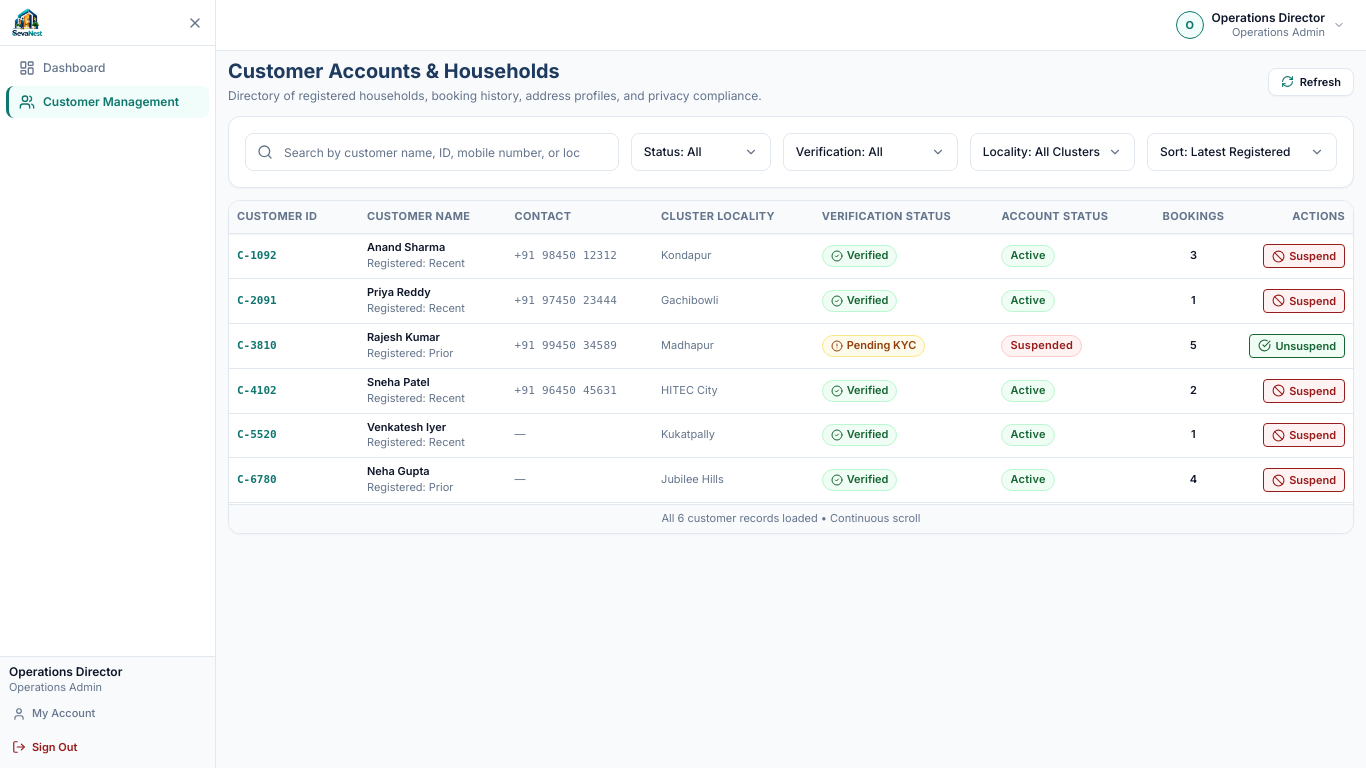
SevaNest Admin Portal — Customer Suspension & Reactivation Action Workflows › 6. Failed suspension displays backend error and preserves actual customer status
Expected: the text "Anand Sharma" is shown, x1=367 y1=240 x2=445 y2=254
Click the button with aria-label "Suspend customer Anand Sharma".
click(1304, 256)  # box x1=1263 y1=244 x2=1345 y2=268
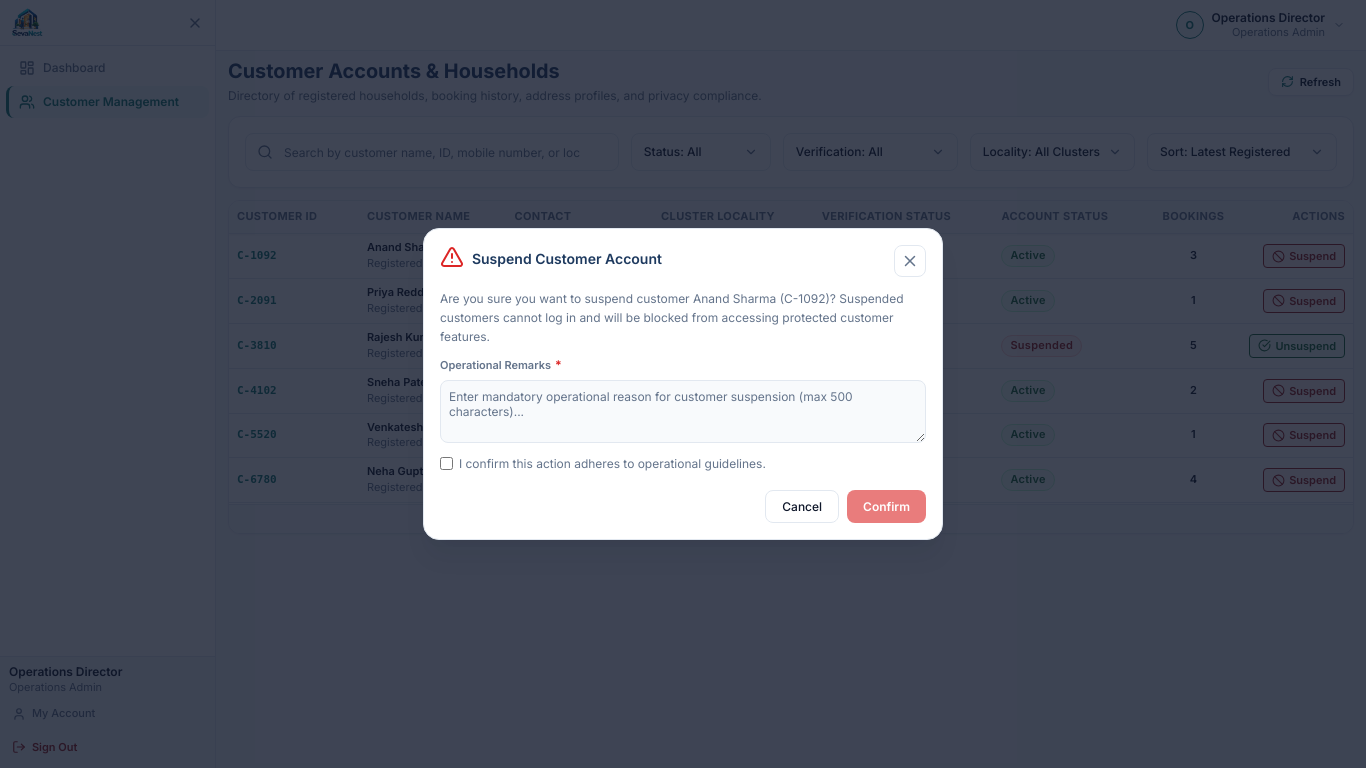
Replace the text in the text box with placeholder "Enter mandatory operational reason" with "Attempting invalid suspension state" at (683, 412), box x1=440 y1=380 x2=926 y2=443
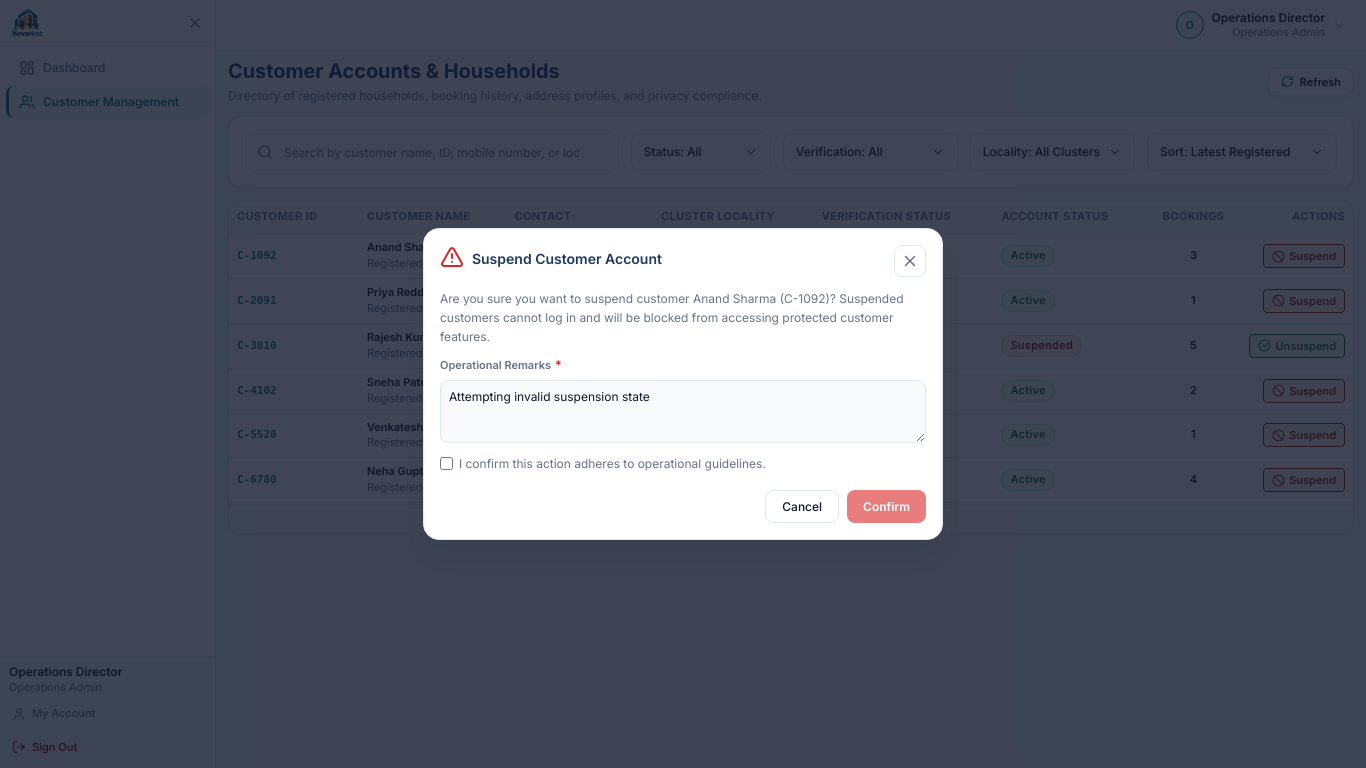
Click the checkbox.
click(446, 464)  # box x1=440 y1=457 x2=453 y2=470
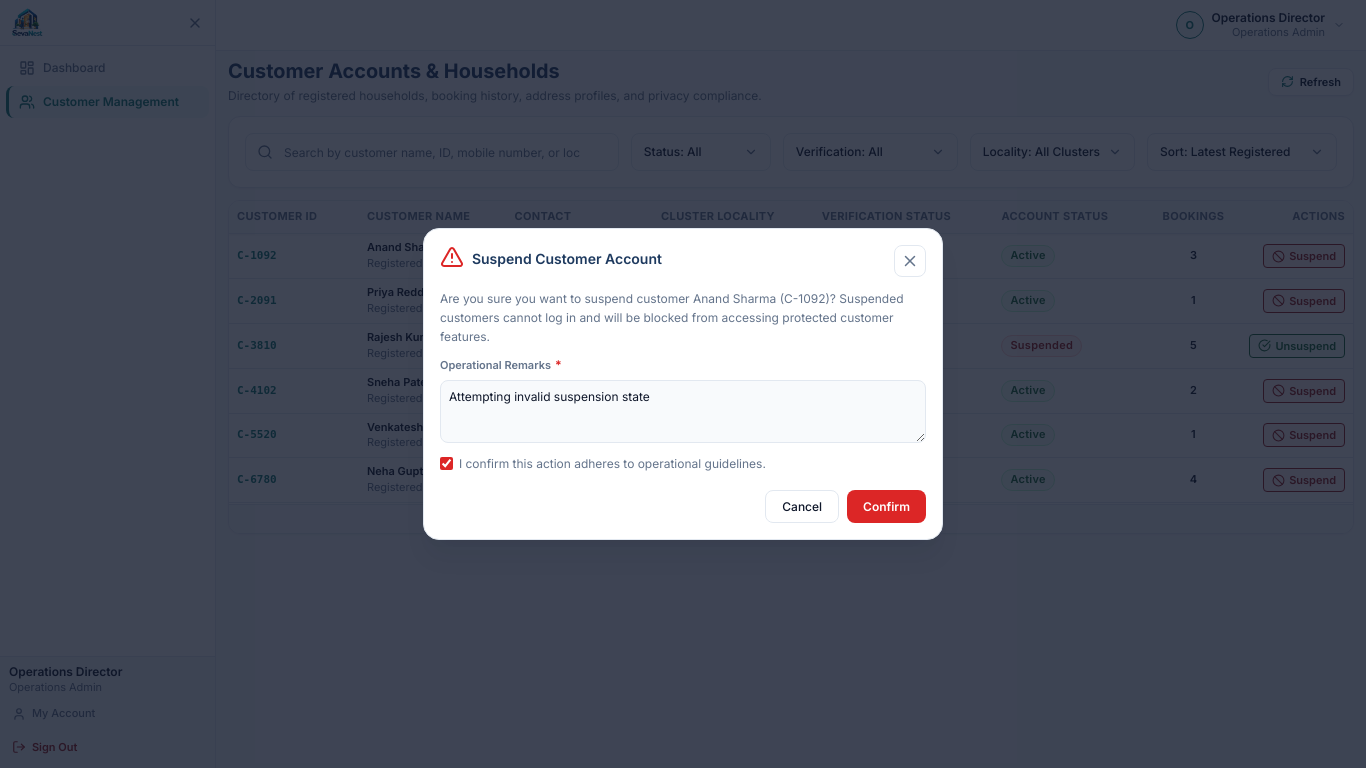
Click the button "Confirm".
click(886, 507)  # box x1=847 y1=490 x2=926 y2=523
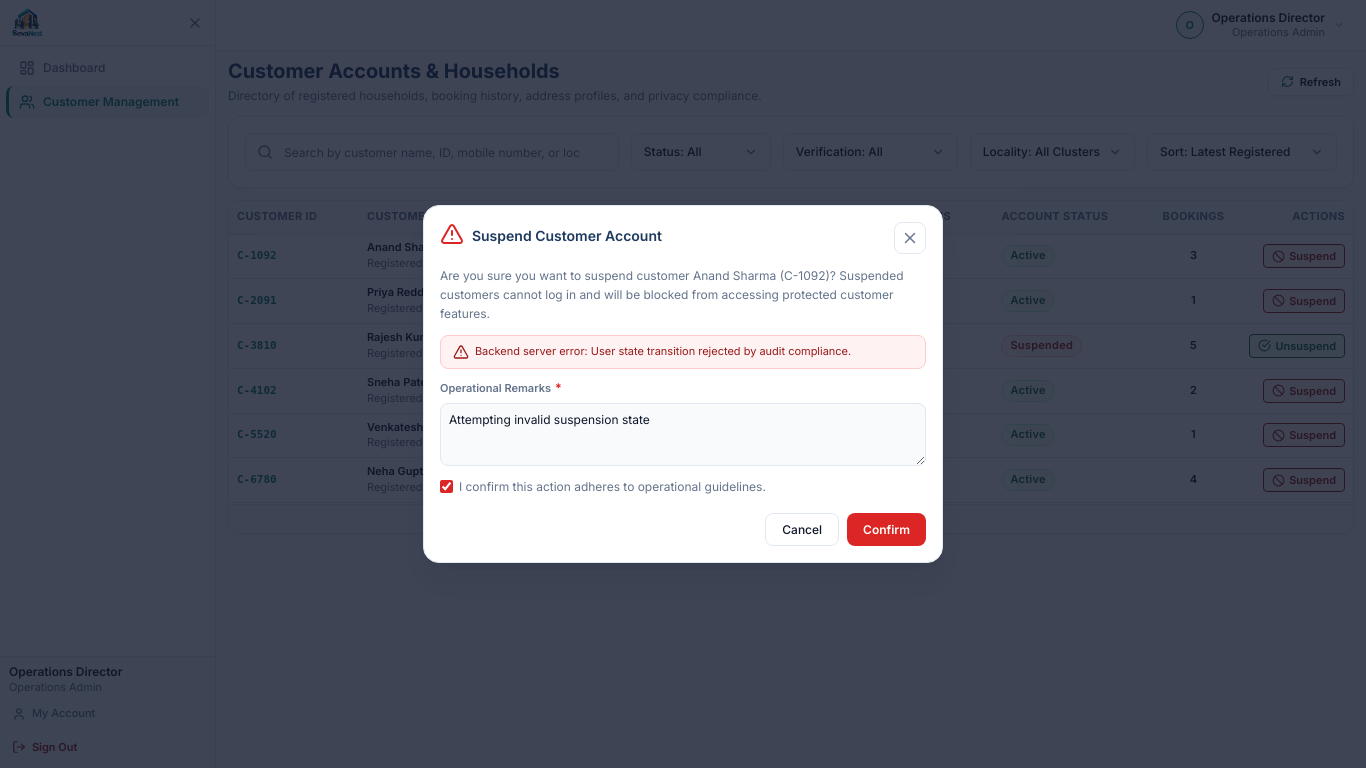
Now the heading "Suspend Customer Account" is shown, box x1=472 y1=227 x2=662 y2=245
Now the message "Backend server error: User state transition rejected by audit compliance." is shown, box x1=440 y1=335 x2=926 y2=369
Now the text "Backend server error: User state transition rejected by audit compliance." is shown, box x1=475 y1=344 x2=851 y2=360
